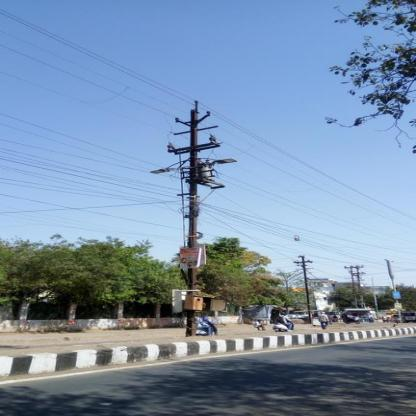Electrical Pole: (148, 95, 236, 343)
